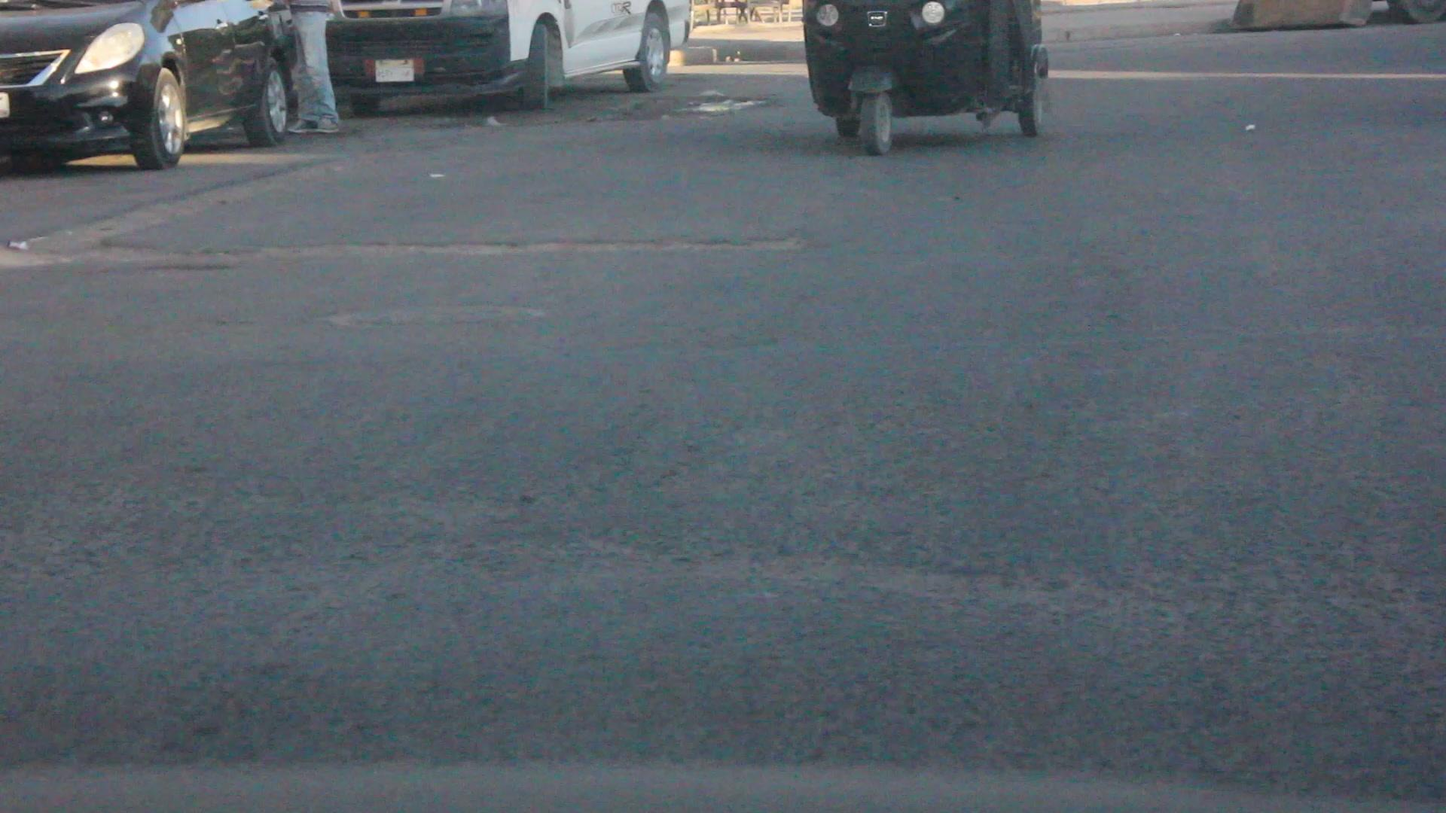Bump: (9, 570, 1446, 800)
Pothole: (0, 216, 823, 282), (653, 88, 747, 134)
